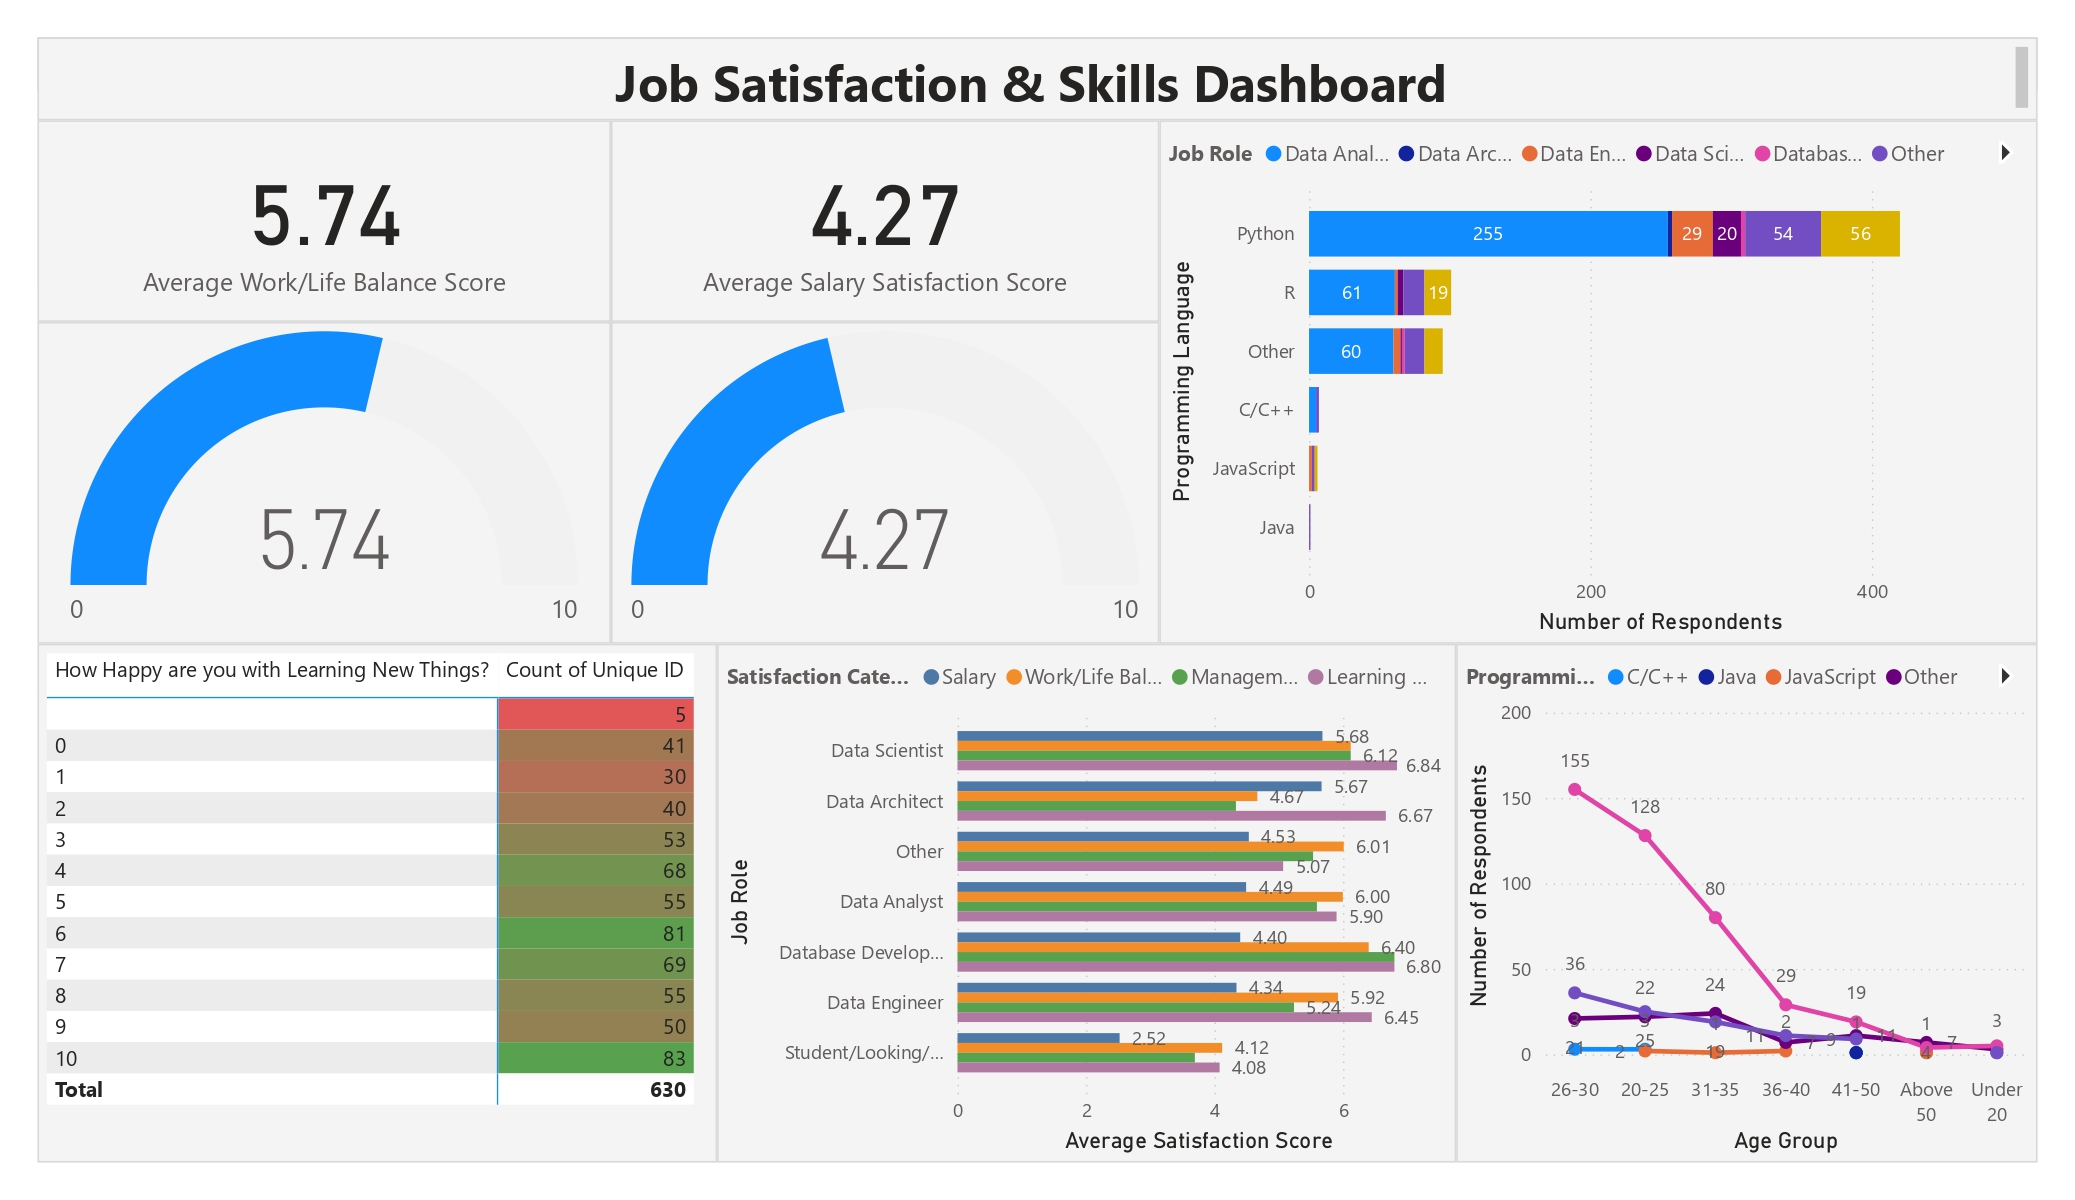

Layout of this report page (visuals, bound fields, positions):
{"tool":"powerbi","page":{"name":"Job Analysis","canvas":[1280,720],"ordinal":1},"visuals":[{"type":"textbox","box":[0,0,1280,53.3],"z":0},{"type":"card","fields":{"Values":["Avg(Data Professional Survey.Q6 - How Happy are you in your Current Position with the following? (Work/Life Balance))"]},"box":[0,53.3,366.7,128.3],"z":1000},{"type":"card","fields":{"Values":["Avg(Data Professional Survey.Q6 - How Happy are you in your Current Position with the following? (Salary))"]},"box":[366.7,53.3,351.7,128.3],"z":2000},{"type":"gauge","title":"Average Work/Life Balance Score","fields":{"Y":["Avg(Data Professional Survey.Q6 - How Happy are you in your Current Position with the following? (Work/Life Balance))"],"MinValue":["Min(Data Professional Survey.Q6 - How Happy are you in your Current Position with the following? (Work/Life Balance))"],"MaxValue":["Max(Data Professional Survey.Q6 - How Happy are you in your Current Position with the following? (Work/Life Balance))1"]},"box":[0,181.7,366.7,206.7],"z":3000},{"type":"gauge","title":"Average Salary Satisfaction Score","fields":{"Y":["Avg(Data Professional Survey.Q6 - How Happy are you in your Current Position with the following? (Salary))"],"MinValue":["Min(Data Professional Survey.Q6 - How Happy are you in your Current Position with the following? (Work/Life Balance))"],"MaxValue":["Max(Data Professional Survey.Q6 - How Happy are you in your Current Position with the following? (Work/Life Balance))1"]},"box":[366.7,181.7,351.7,206.7],"z":4000},{"type":"pivotTable","title":"Satisfaction Heatmap","fields":{"Rows":["Data Professional Survey.Q6 - How Happy are you in your Current Position with the following? (Salary)","Data Professional Survey.Q6 - How Happy are you in your Current Position with the following? (Work/Life Balance)","Data Professional Survey.Q6 - How Happy are you in your Current Position with the following? (Management)","Data Professional Survey.Q6 - How Happy are you in your Current Position with the following? (Learning New Things)"],"Values":["CountNonNull(Data Professional Survey.Unique ID)"]},"box":[0,388.3,435,331.7],"z":5000},{"type":"clusteredBarChart","title":"Satisfaction Scores by Job Role","fields":{"Category":["Data Professional Survey.Q1 - Which Title Best Fits your Current Role?"],"Y":["Avg(Data Professional Survey.Q6 - How Happy are you in your Current Position with the following? (Salary))","Avg(Data Professional Survey.Q6 - How Happy are you in your Current Position with the following? (Work/Life Balance))","Avg(Data Professional Survey.Q6 - How Happy are you in your Current Position with the following? (Management))","Avg(Data Professional Survey.Q6 - How Happy are you in your Current Position with the following? (Learning New Things))"]},"box":[435,388.3,473.3,331.7],"z":6000},{"type":"lineChart","title":"Programming Language Trends by Age Group","fields":{"Category":["Data Professional Survey.Age Group"],"Series":["Data Professional Survey.Q5 - Favorite Programming Language"],"Y":["CountNonNull(Data Professional Survey.Unique ID)"]},"box":[908.3,388.3,371.7,331.7],"z":7000},{"type":"barChart","title":"Preferred Programming Languages by Job Role","fields":{"Series":["Data Professional Survey.Q1 - Which Title Best Fits your Current Role?"],"Category":["Data Professional Survey.Q5 - Favorite Programming Language"],"Y":["CountNonNull(Data Professional Survey.Unique ID)"]},"box":[718.3,53.3,561.7,335],"z":8000}]}

Visuals, with their boxes in screenshot pixels (x1, y1, x2, y2):
textbox: left=38, top=38, right=2038, bottom=121
card - Avg(Data Professional Survey.Q6 - How Happy are you in your Current Position with the following? (Work/Life Balance)): left=38, top=121, right=610, bottom=321
card - Avg(Data Professional Survey.Q6 - How Happy are you in your Current Position with the following? (Salary)): left=610, top=121, right=1160, bottom=321
"Average Work/Life Balance Score" gauge: left=38, top=321, right=610, bottom=644
"Average Salary Satisfaction Score" gauge: left=610, top=321, right=1160, bottom=644
"Satisfaction Heatmap" pivotTable: left=38, top=644, right=717, bottom=1162
"Satisfaction Scores by Job Role" clusteredBarChart: left=717, top=644, right=1457, bottom=1162
"Programming Language Trends by Age Group" lineChart: left=1457, top=644, right=2038, bottom=1162
"Preferred Programming Languages by Job Role" barChart: left=1160, top=121, right=2038, bottom=644
